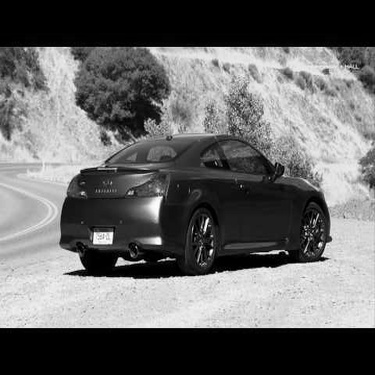car: (36, 123, 337, 279)
